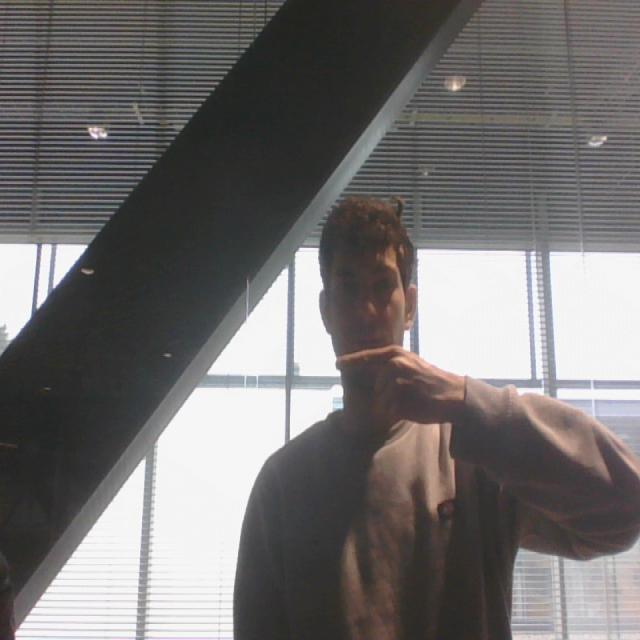left: (328, 341, 470, 435)
